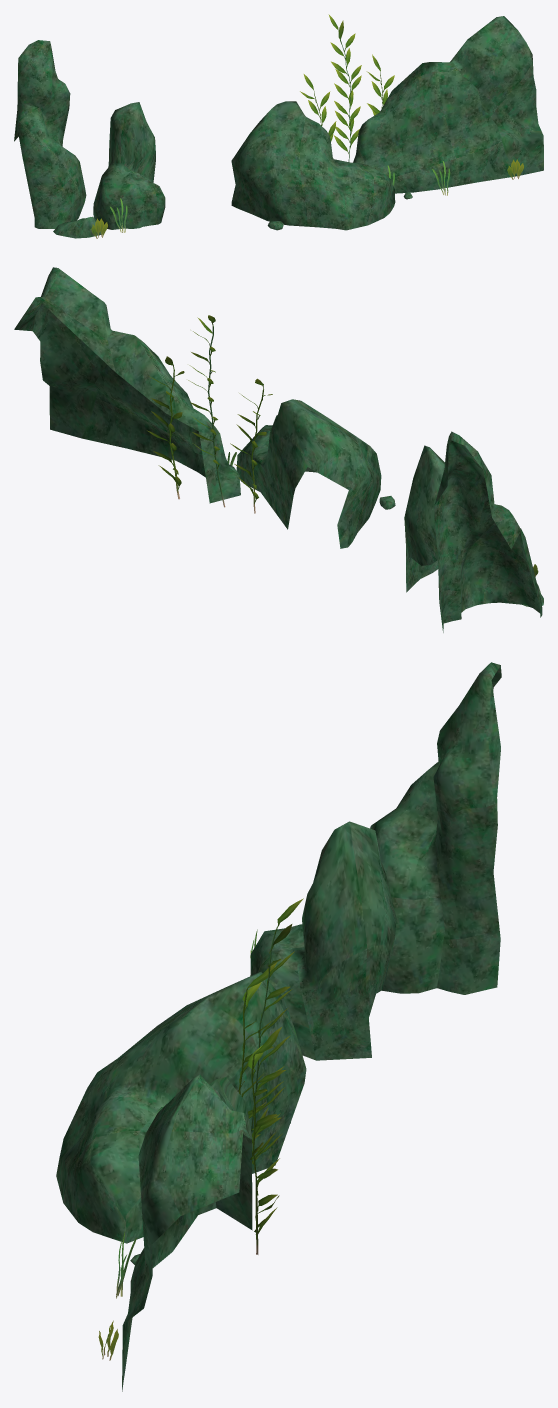
File: kelp-rocks.glb
The picture shows the model from 3 angles, top to bottom: view 1: azimuth 30°, elevation 25°; view 2: azimuth 150°, elevation 25°; view 3: azimuth 270°, elevation 25°; orthographic projection. The views are drawn at different scales.
Size of the model in its own units: 154 by 54.41 by 66.52.
Materials: 2 (2 with a texture image).
